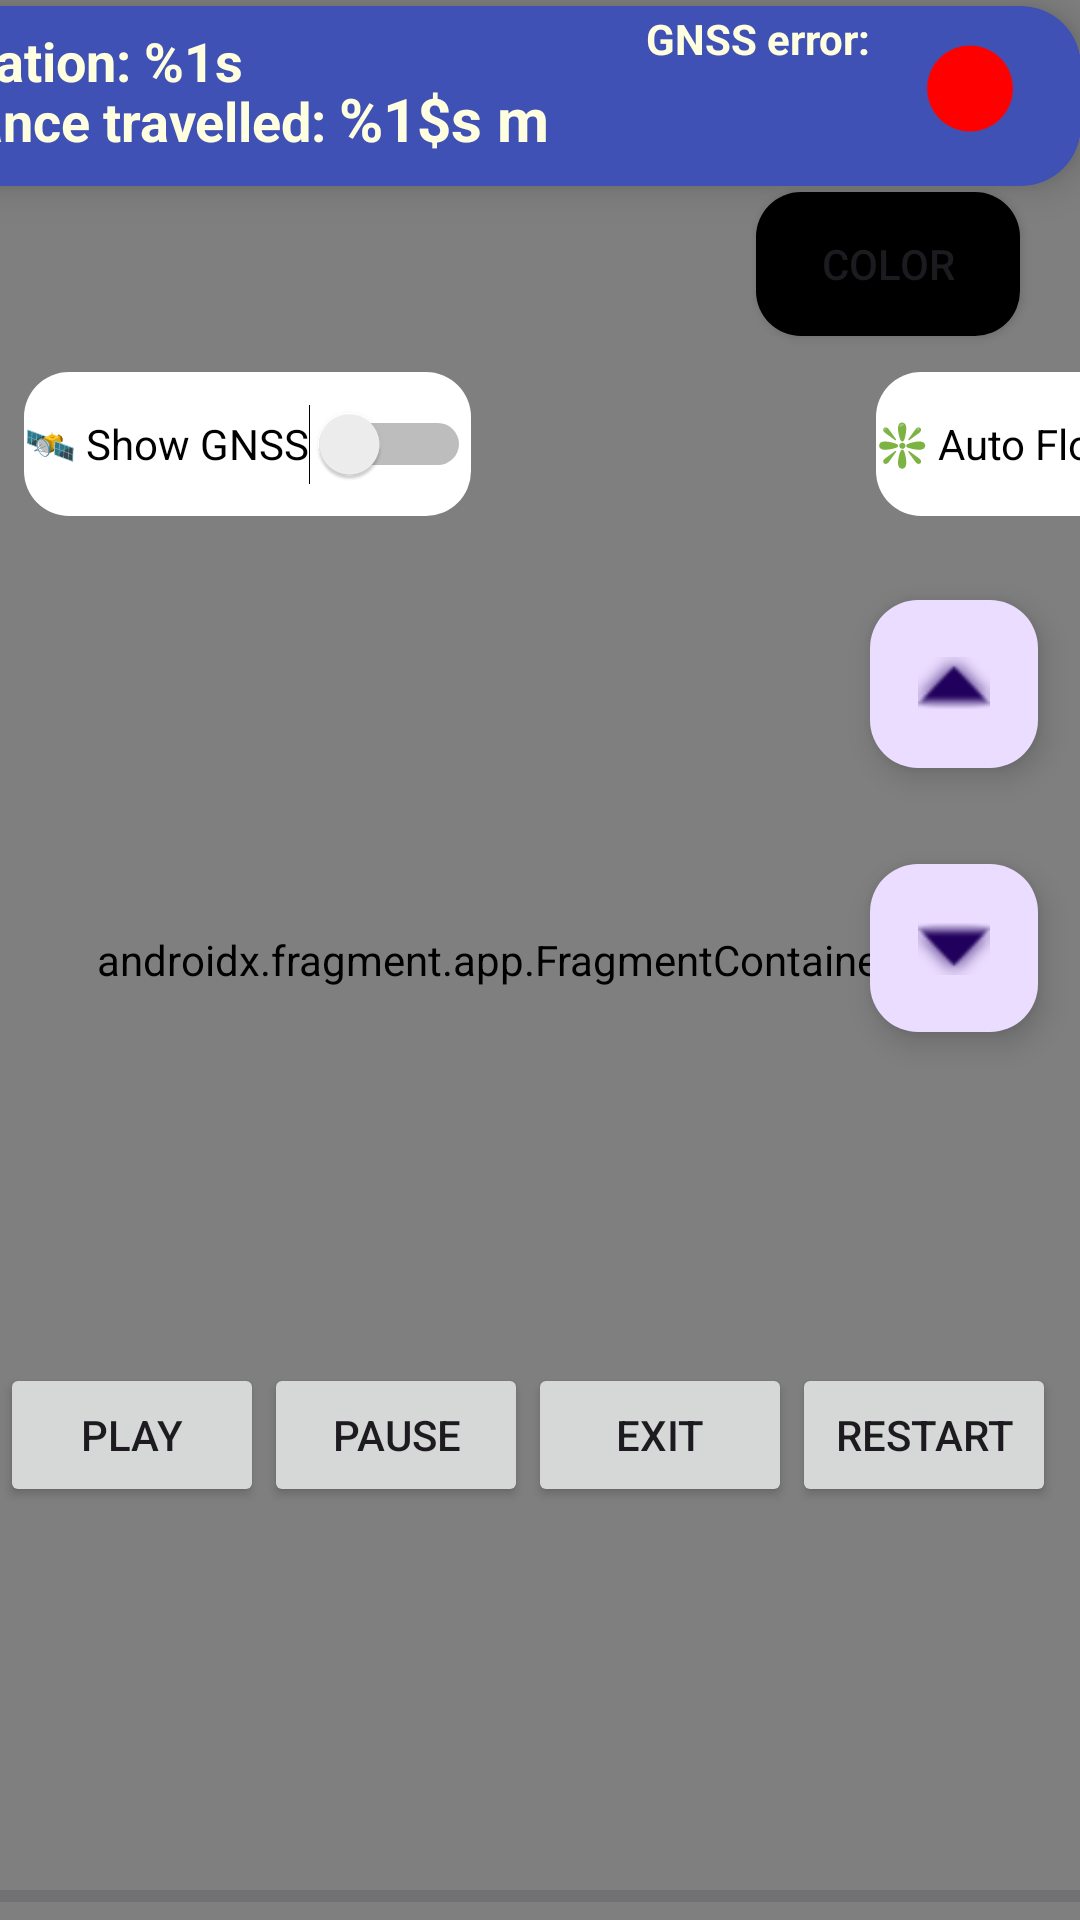

Named icons in this screenshot (1080×1920) and their bounding boxes, (left=x1, top=y1, right=x2, bottom=y2):
Floor Down button: (left=870, top=864, right=1038, bottom=1032)
Floor Up button: (left=870, top=600, right=1038, bottom=768)
Recording in progress: (left=926, top=45, right=1014, bottom=132)
